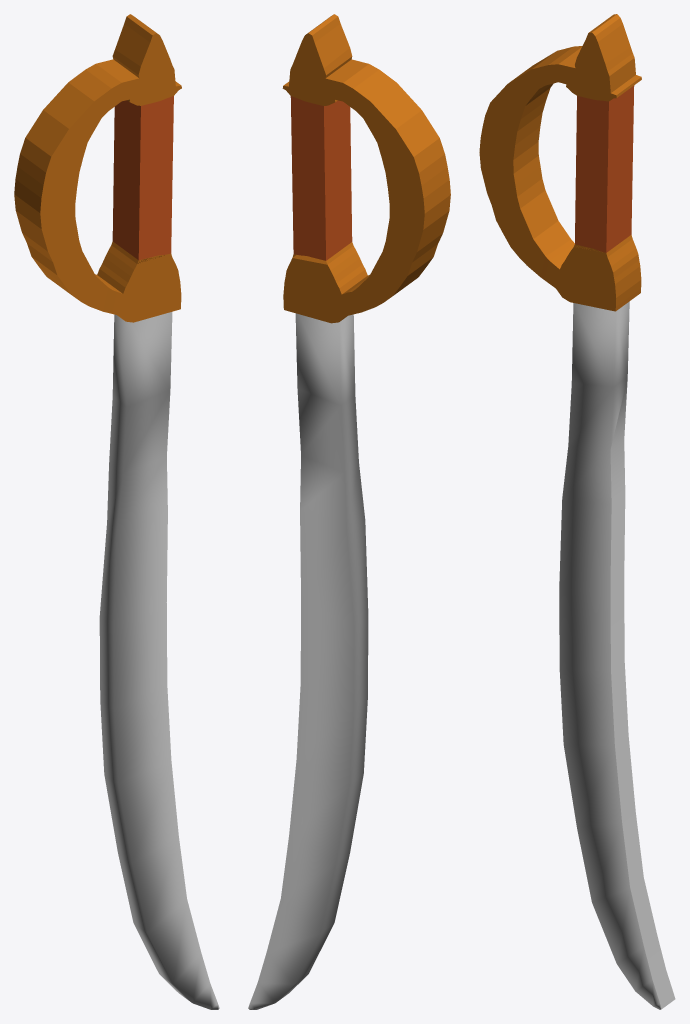
The model's file is cutlass.obj.
3 views of the same model, side by side, from view 1: azimuth 30°, elevation 25°; view 2: azimuth 150°, elevation 25°; view 3: azimuth 330°, elevation 25° (orthographic). The views are drawn at different scales.
Parts seen in each view (by area): view 1: cutlas; view 2: cutlas; view 3: cutlas.
Boxes of the visible parts, x1,y1,x2,y2 form: cutlas: (14, 14, 219, 1009); cutlas: (248, 14, 450, 1009); cutlas: (479, 14, 675, 1009).
Bounding box in the file's own units: 0.923 × 4.78 × 0.2269.
